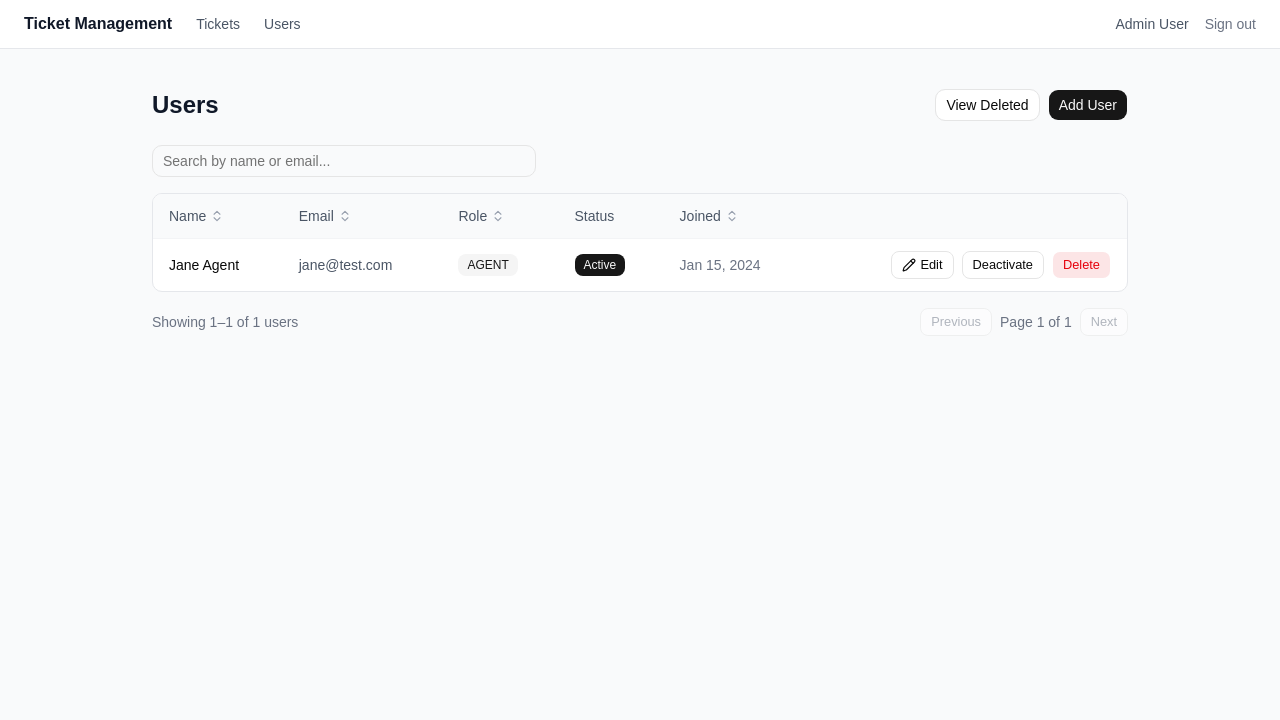
Scenario: UsersPage › Edit User dialog › opens with the user's current data pre-filled
The image size is (1280, 720).
Expected: the text "Jane Agent" is shown, [153, 238, 283, 291]
Step 1. Click the button "Edit" → (923, 265), box [892, 251, 954, 279]
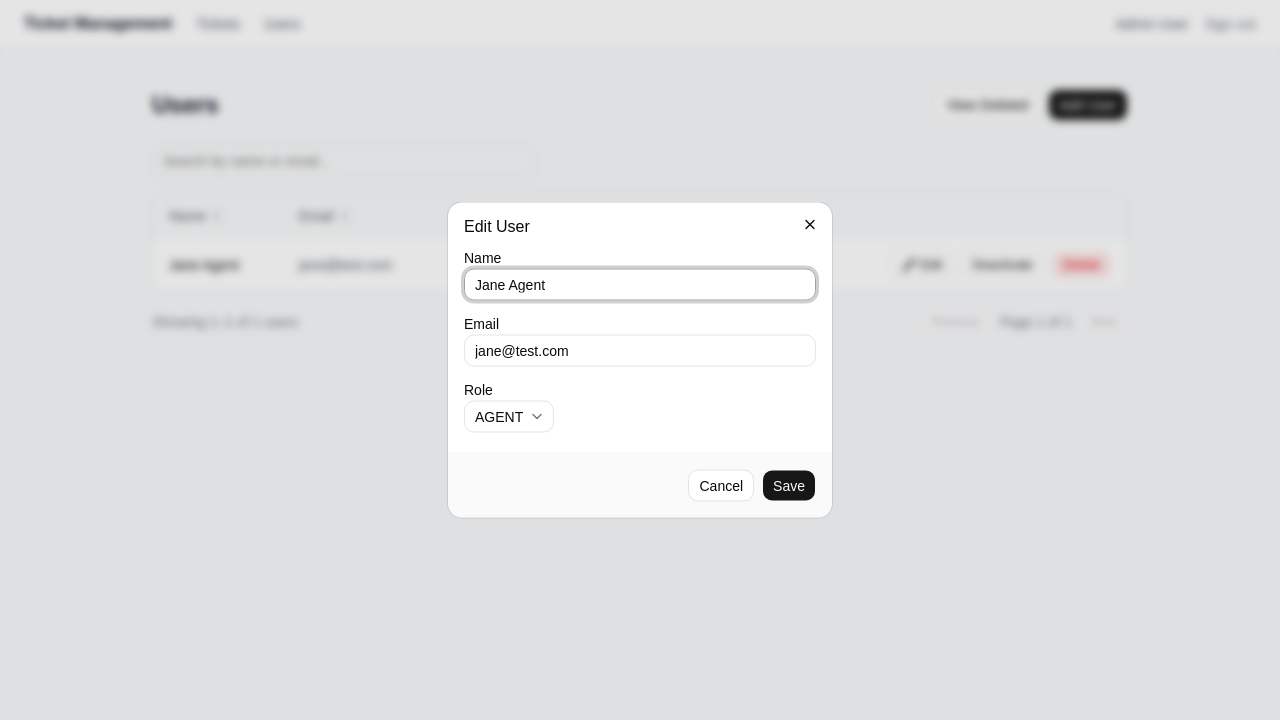
Result: the heading "Edit User" is shown at [464, 218, 530, 234]
Result: the field showing "Jane Agent" is shown at [464, 268, 816, 300]
Result: the field showing "jane@test.com" is shown at [464, 334, 816, 366]
